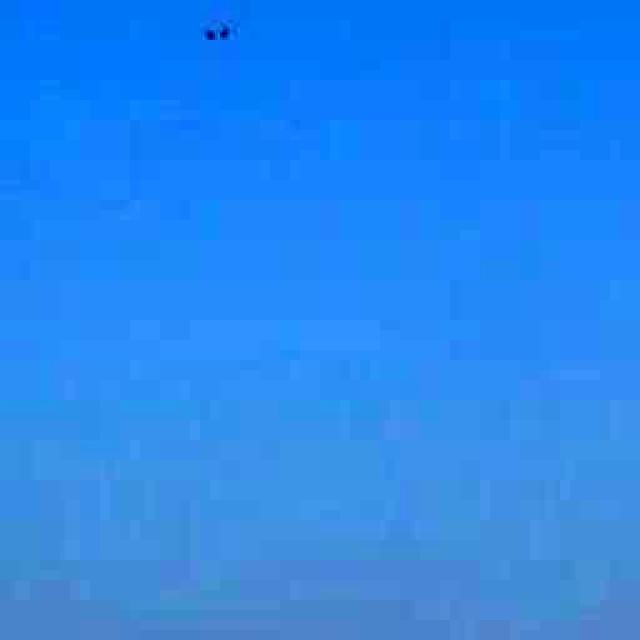bird: (182, 6, 250, 56)
